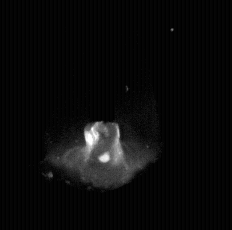arame: (88, 0, 116, 123)
poca: (46, 0, 158, 230)
